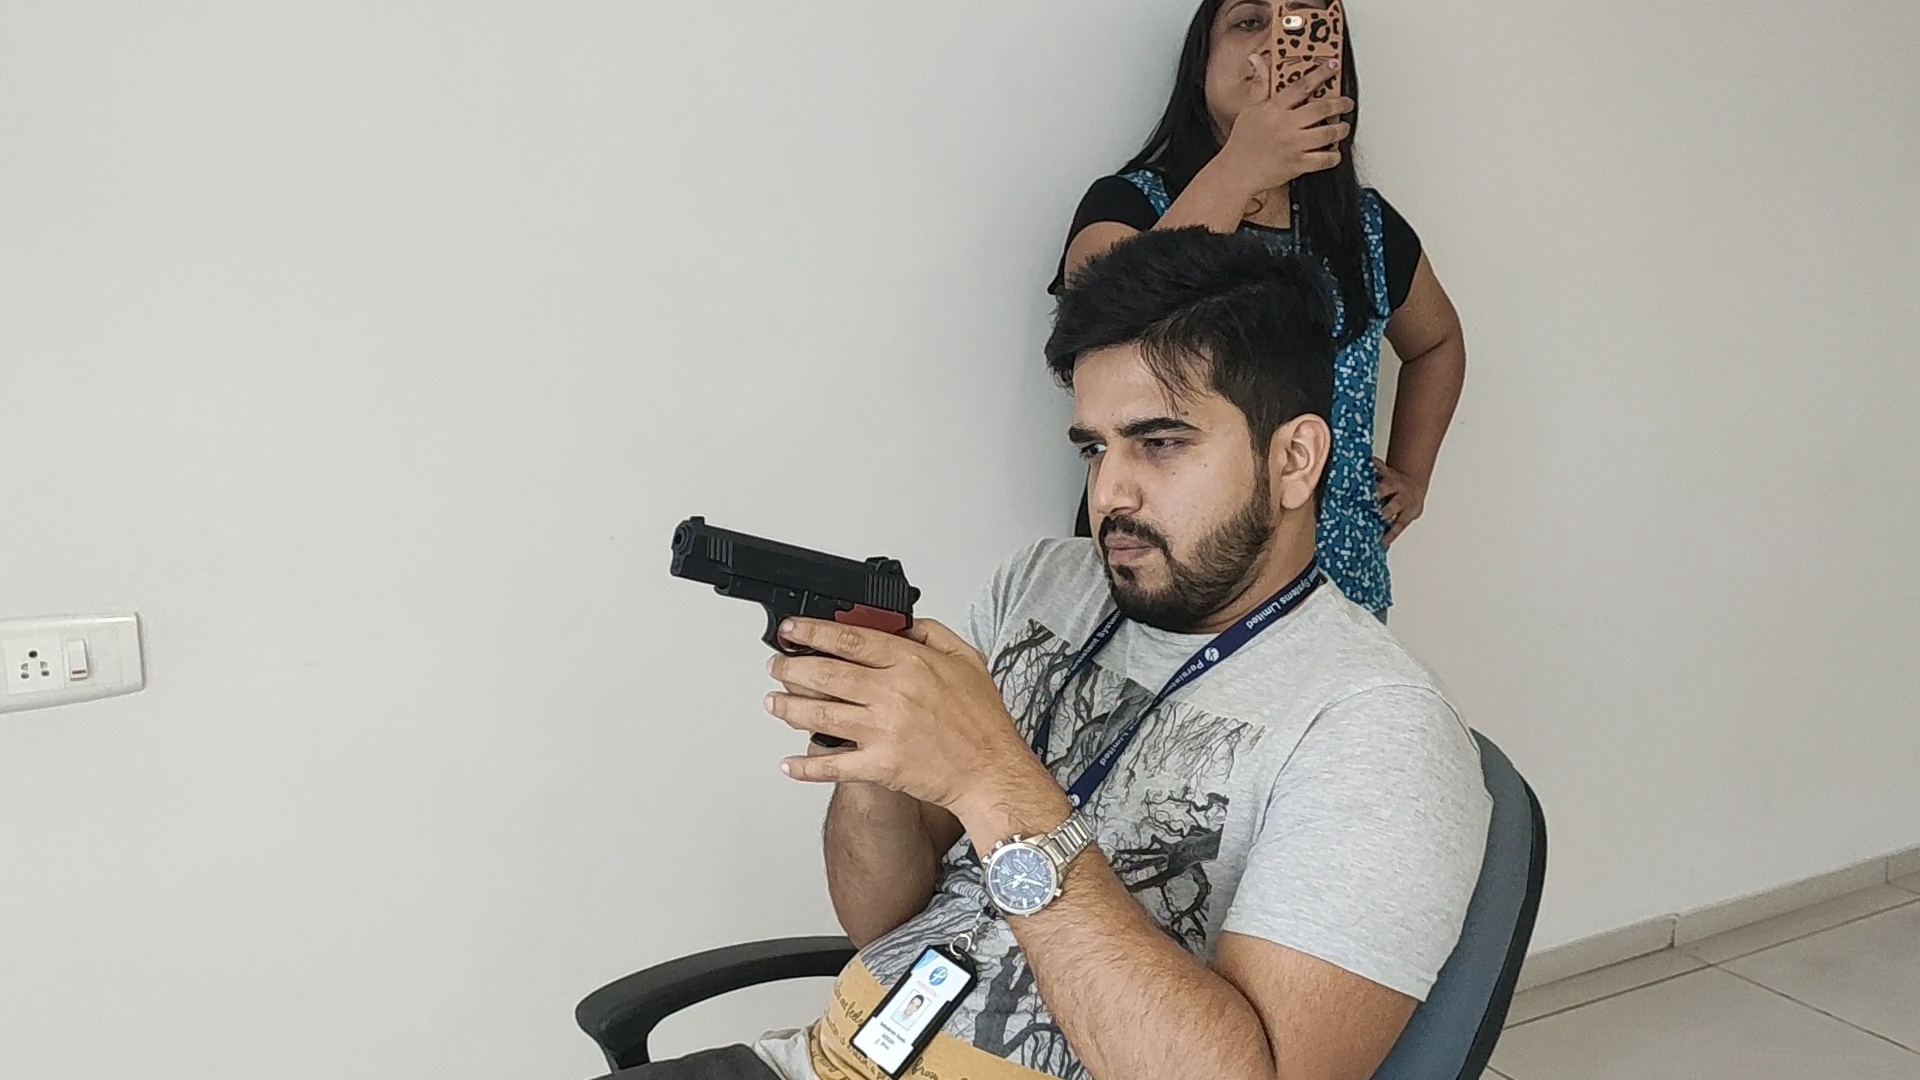gun: (669, 516, 920, 616)
